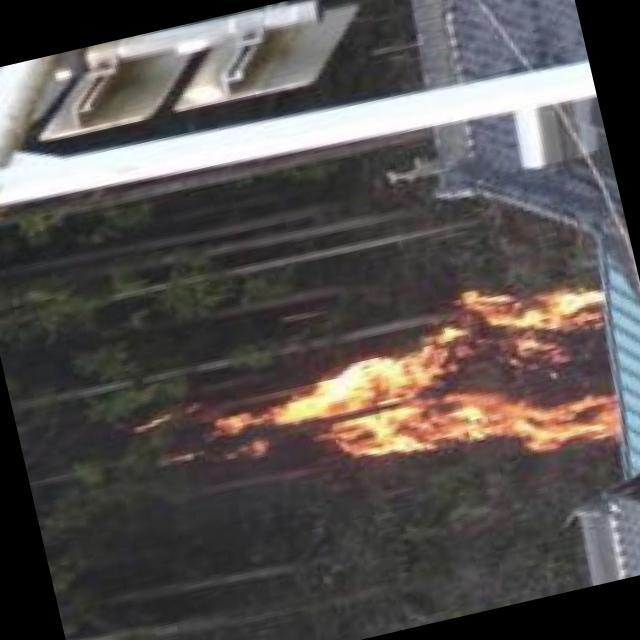Fire: (195, 270, 635, 524)
